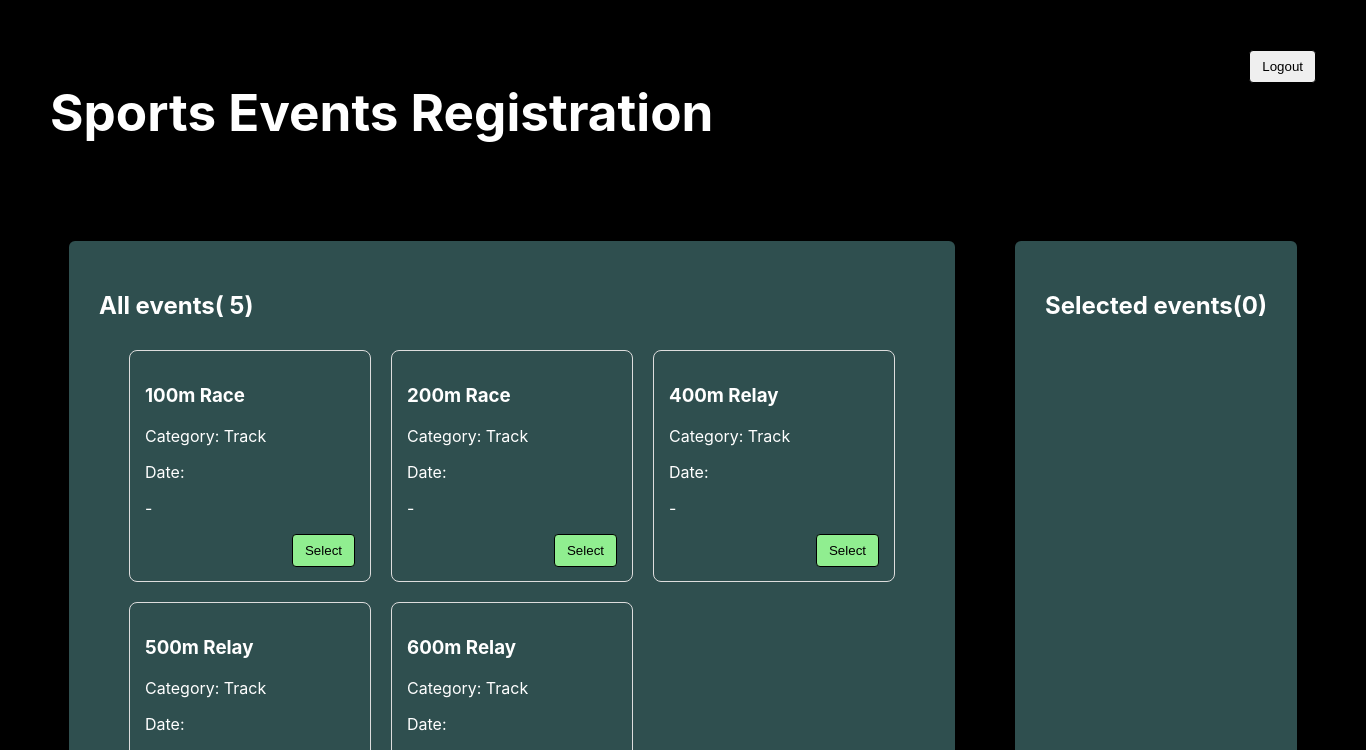
Test: App component › removes a selected event
Click the button "Select" below "400m Relay": (848, 550) [816,534,879,567]
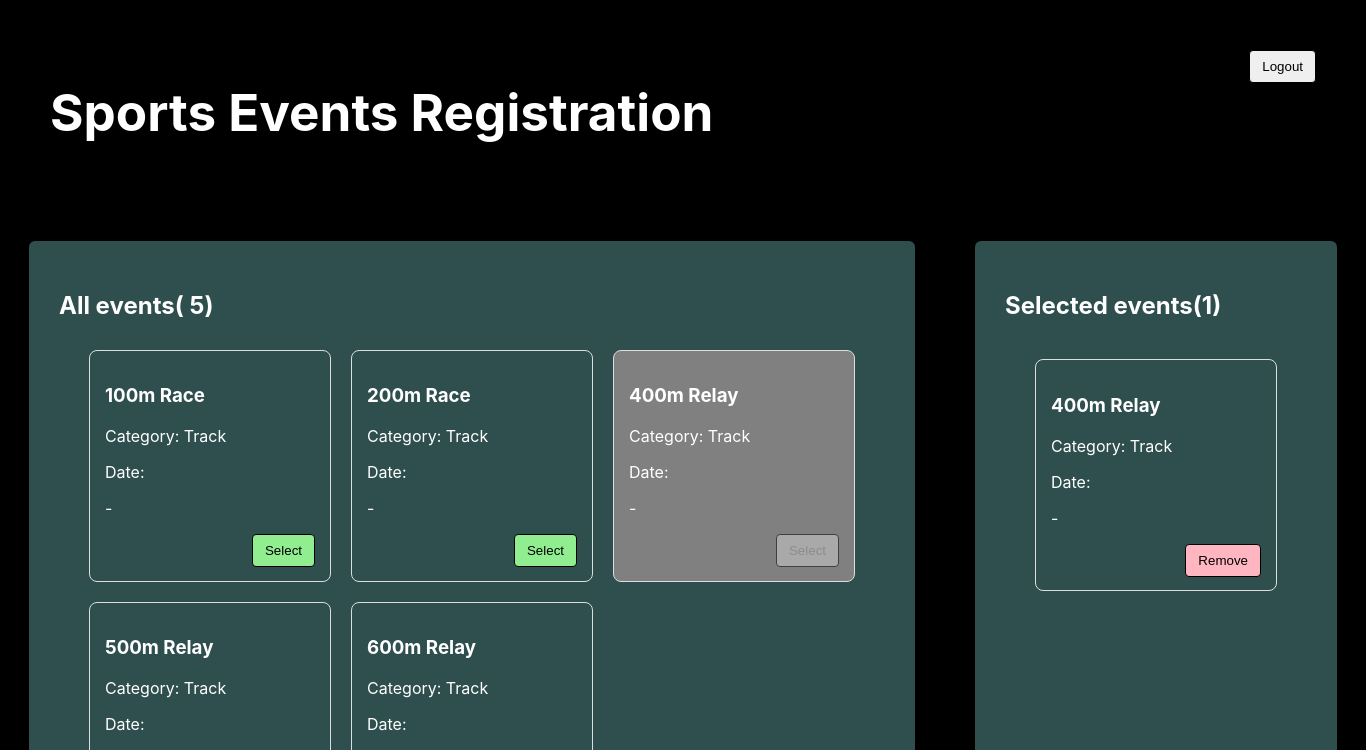
Now the number of buttons "Remove" is 1
Click the button "Remove": (1223, 560) [1185,544,1261,577]
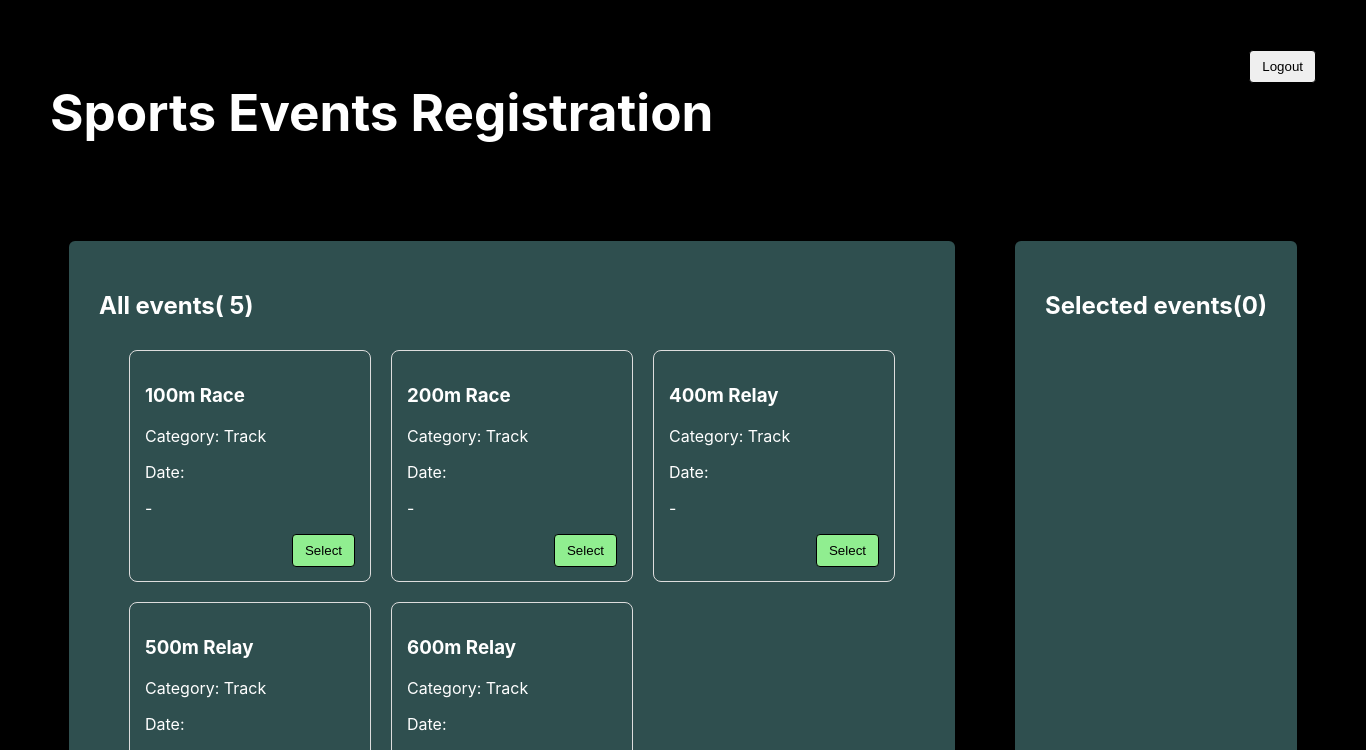
Now the button "Remove" is gone
